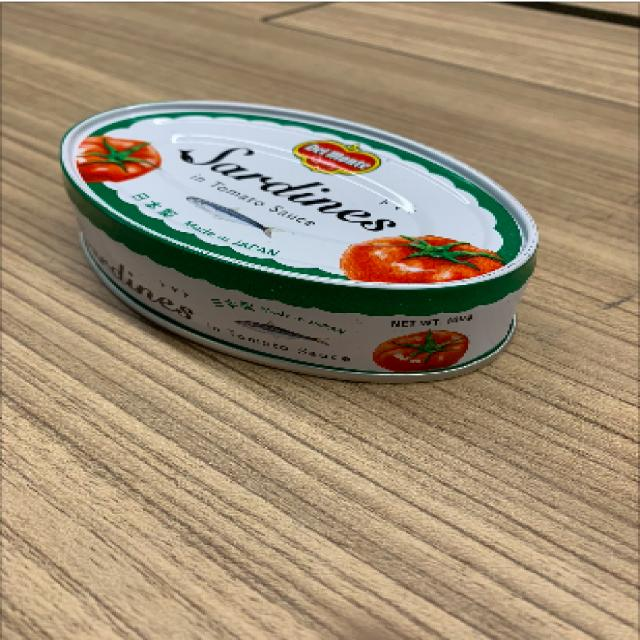object_name: (90, 99, 525, 362)
